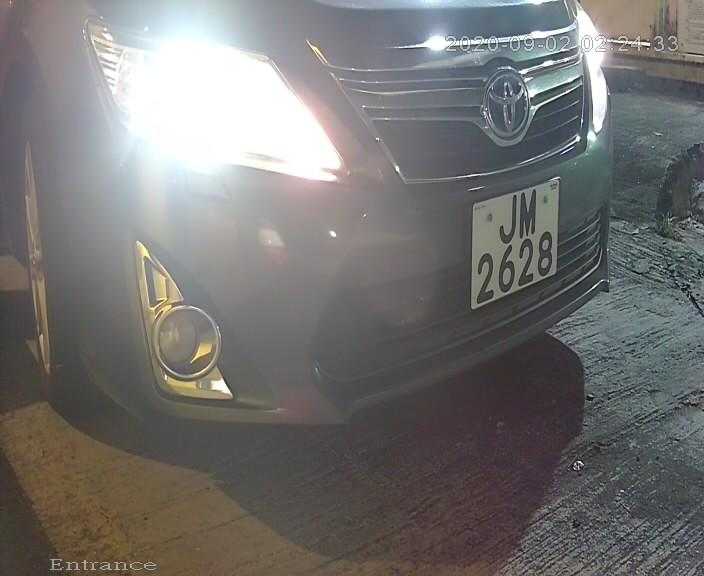License Plate: (459, 163, 560, 322)
